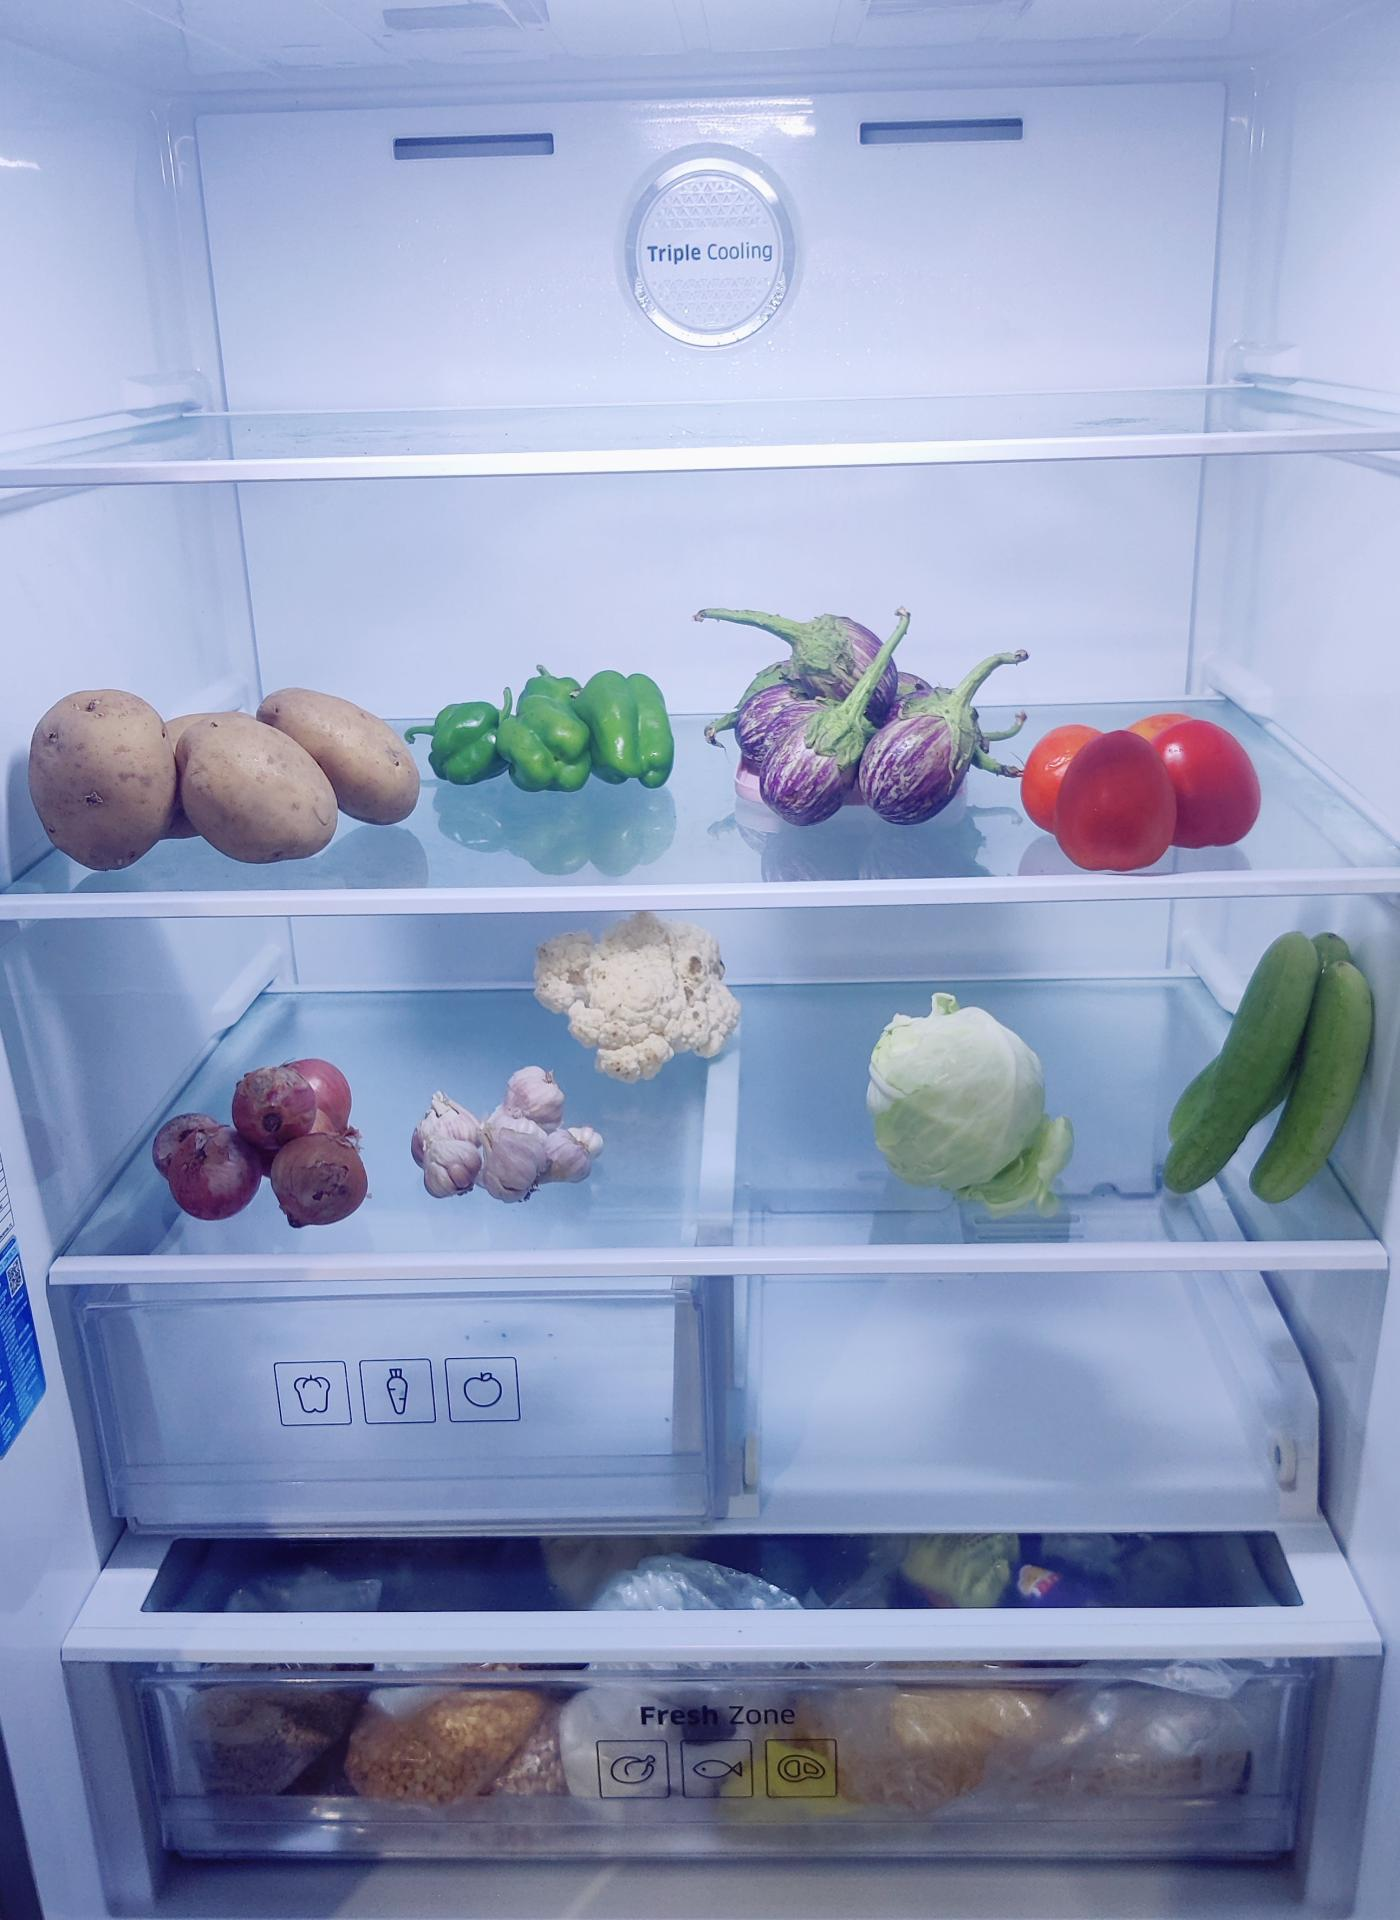bread: (1, 1133, 46, 1474)
brinjal: (735, 611, 986, 821)
cabbage: (865, 999, 1060, 1203)
capsicum: (426, 662, 672, 792)
carrots: (25, 674, 428, 859)
cauliflower: (534, 917, 740, 1085)
cucumber: (1161, 939, 1384, 1222)
garlic: (407, 1066, 602, 1197)
onion: (158, 1046, 374, 1216)
tomato: (1023, 713, 1264, 875)
